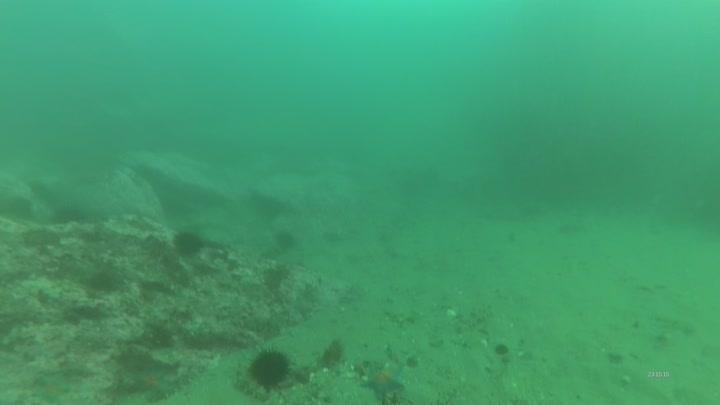echinus: (246, 345, 294, 391), (171, 227, 206, 259), (51, 202, 87, 228), (271, 227, 299, 253)
starfish: (359, 359, 408, 402), (126, 362, 177, 402)
